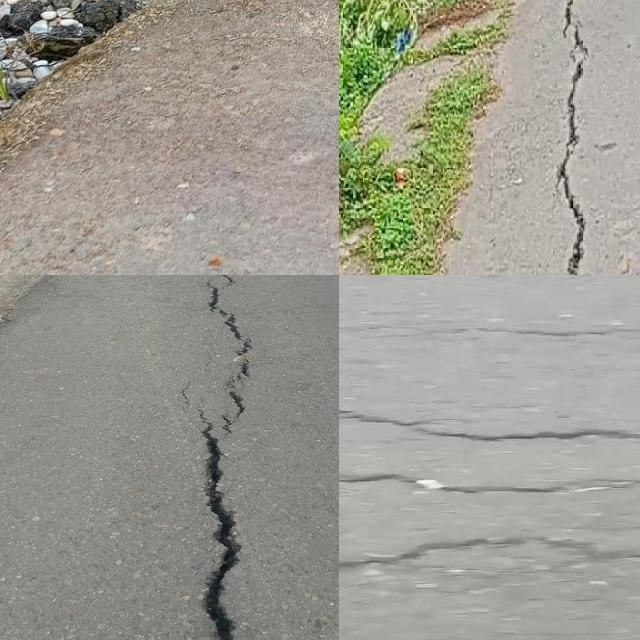Melintang: (339, 526, 640, 580), (339, 399, 640, 452), (339, 462, 640, 504)
Memanjang: (186, 275, 267, 640), (545, 0, 603, 275)
Pinggir: (0, 0, 249, 163)
